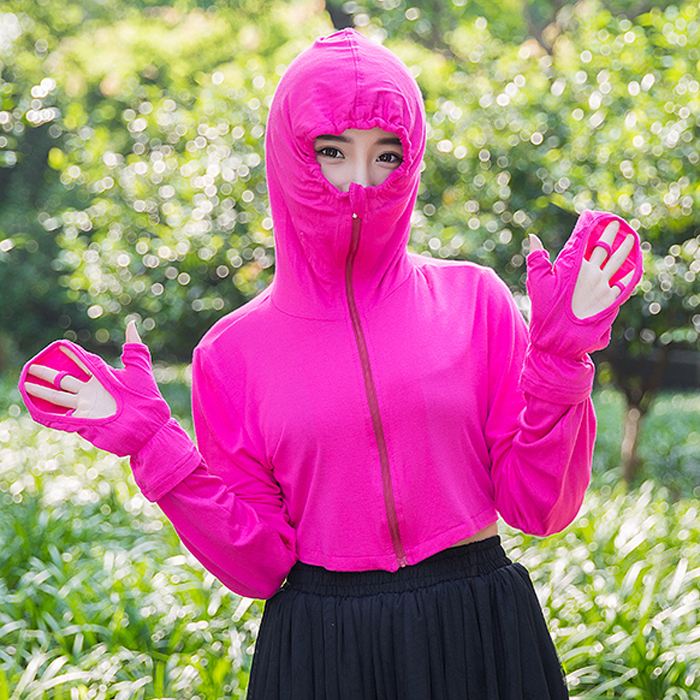face_mask: (292, 86, 415, 251)
